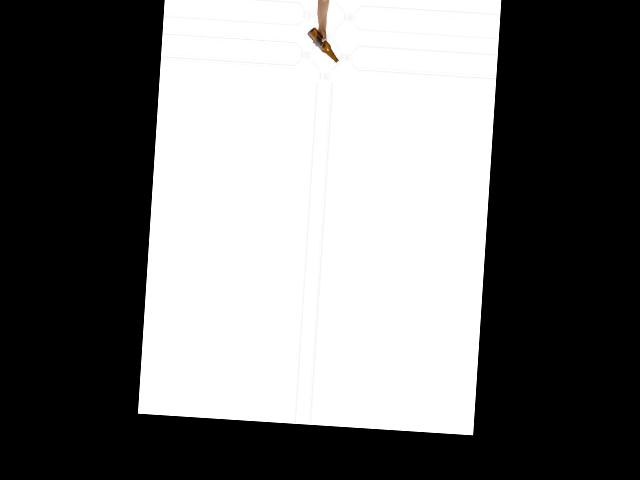beer: (305, 26, 340, 62)
